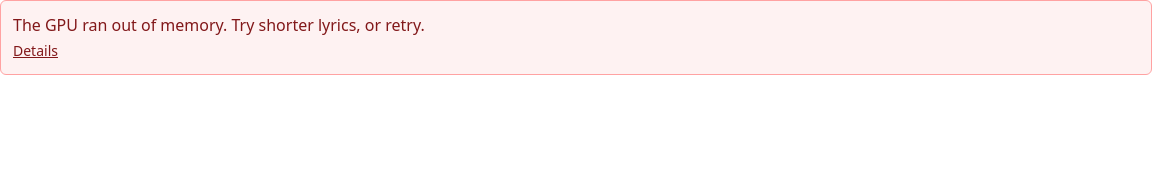
Test: error messages (U-6) › the Details toggle shows the code and raw message
Check: the text "The GPU ran out of memory. Try shorter lyrics, or retry." is shown, box [13, 14, 425, 36]
Check: the text "CUDA out of memory" is not shown
Click the button "Details": (36, 51) [13, 41, 58, 61]
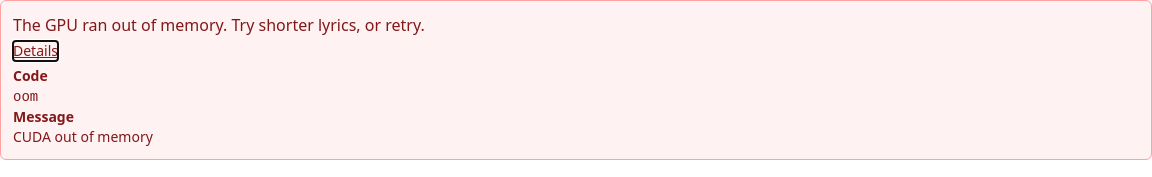
Check: the text "oom" is shown, box [13, 89, 38, 105]
Check: the text "CUDA out of memory" is shown, box [13, 127, 153, 146]
